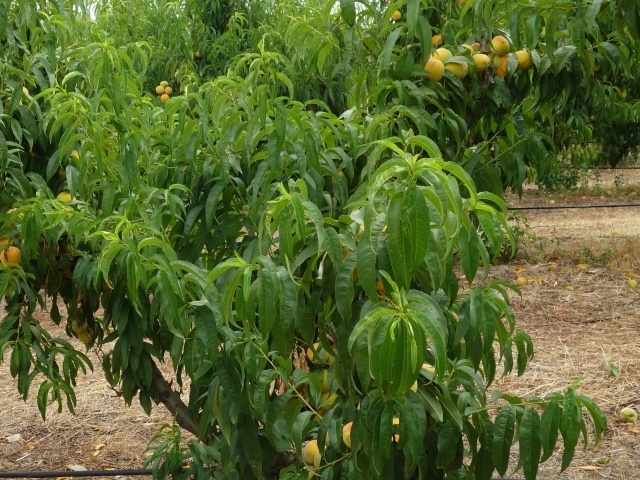peach: (336, 419, 365, 453), (421, 55, 449, 85), (306, 338, 334, 367), (300, 437, 325, 468), (487, 32, 513, 59), (509, 47, 533, 76), (429, 42, 456, 67), (444, 57, 471, 81), (467, 50, 493, 74), (77, 323, 100, 347), (67, 314, 91, 336)
